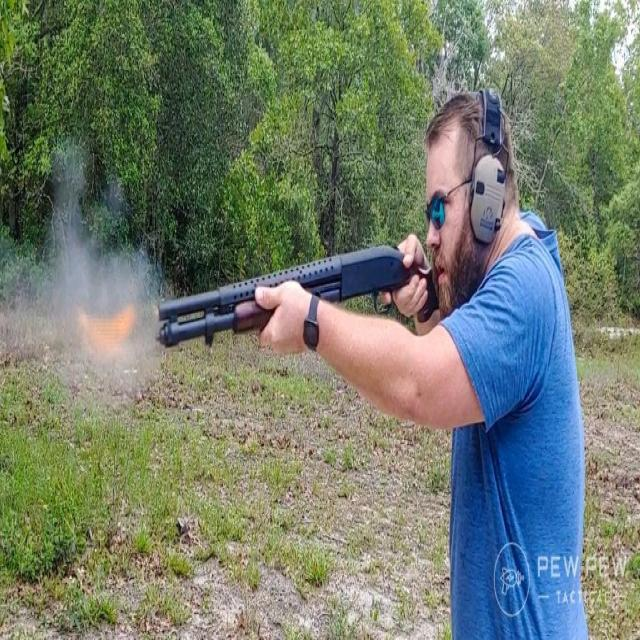weapon: (149, 236, 436, 414)
